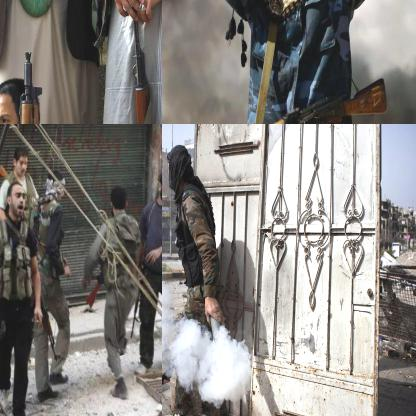rifle: (215, 74, 389, 123), (116, 1, 161, 123)
